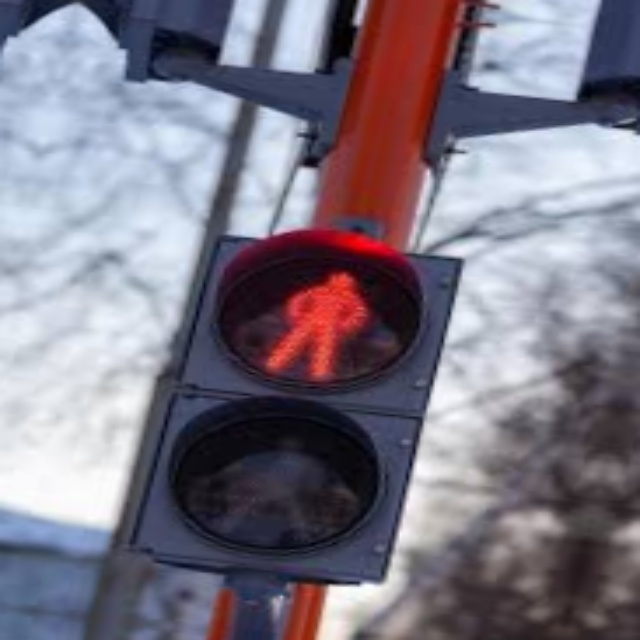red_light: (254, 260, 382, 382)
